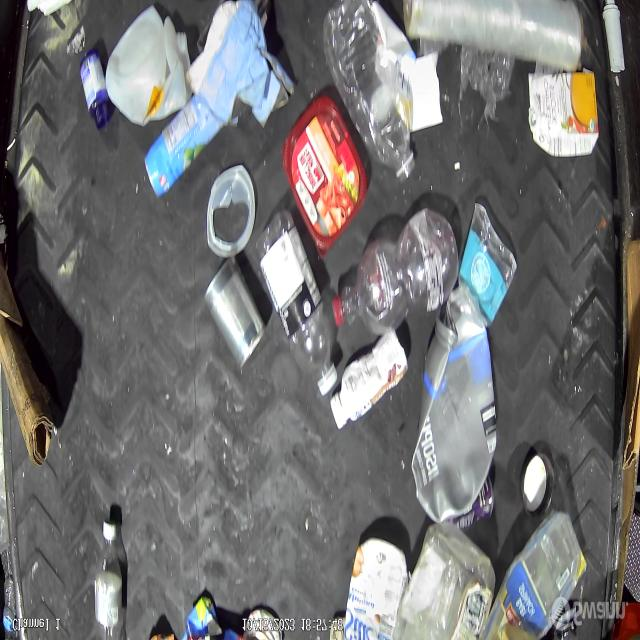can: (143, 94, 220, 200), (204, 256, 265, 371), (207, 165, 256, 258), (449, 477, 494, 530)
milk_jug: (104, 4, 194, 128), (344, 540, 408, 640)
non_white_jug: (412, 290, 497, 526), (527, 70, 599, 158)
plastic_bottle: (324, 0, 416, 185), (332, 206, 460, 335), (257, 208, 337, 398), (94, 519, 122, 640), (3, 578, 14, 640)
